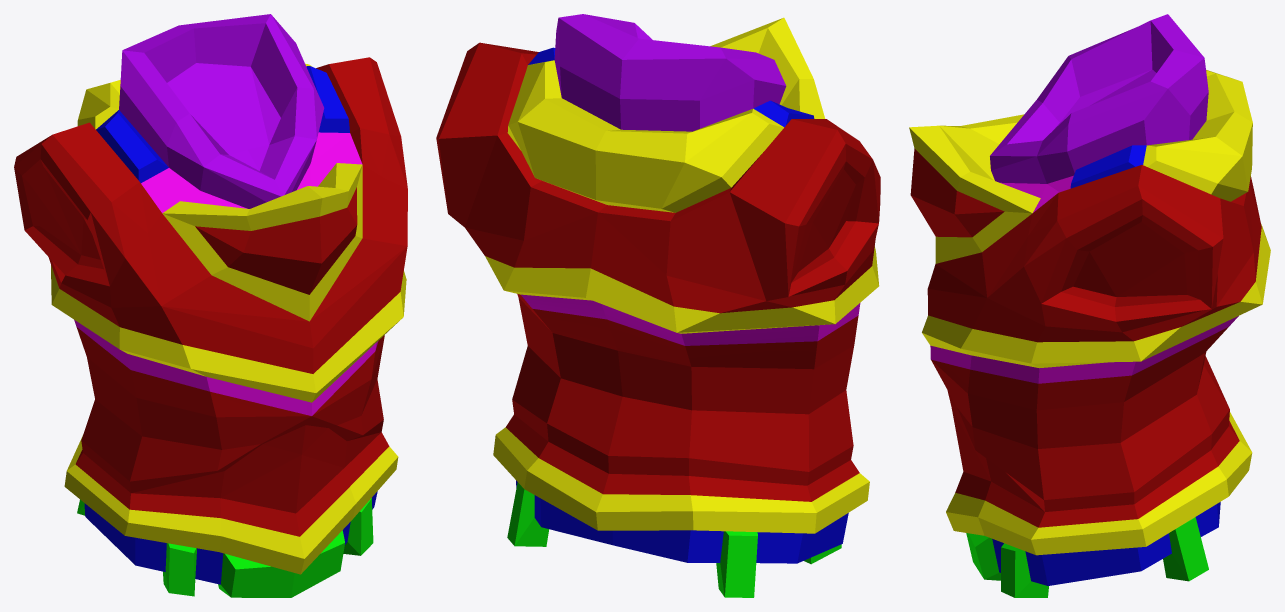
Rendered from Chr_Torso_Male_Static_25.fbx.
3 views of the same model, side by side, from view 1: azimuth 30°, elevation 25°; view 2: azimuth 150°, elevation 25°; view 3: azimuth 270°, elevation 25° (orthographic). The views are drawn at different scales.
Visible parts, largest first — view 1: Chr_Torso_Male_25; view 2: Chr_Torso_Male_25; view 3: Chr_Torso_Male_25.
Boxes of the visible parts, bbox=[...] form: Chr_Torso_Male_25: bbox=[14, 14, 407, 597]; Chr_Torso_Male_25: bbox=[436, 14, 880, 597]; Chr_Torso_Male_25: bbox=[909, 14, 1270, 597].
Bounding box in the file's own units: 50.2 × 70.97 × 45.42.
